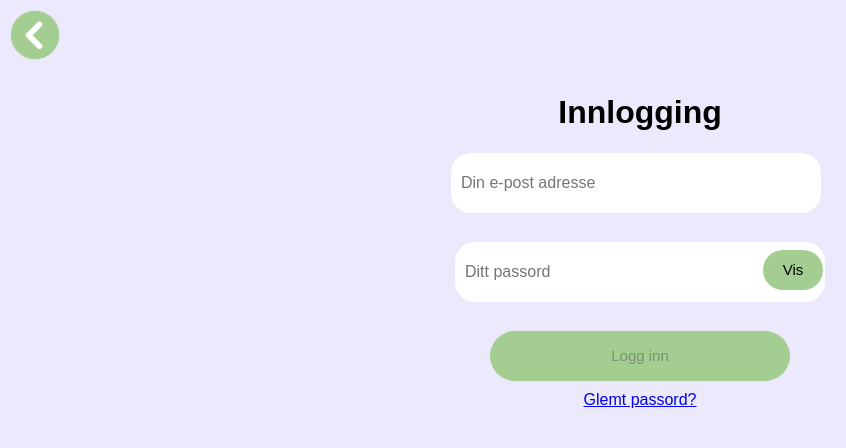
Test case: Login form › displays error message for user not found
Type "validemail@example.com" into the field named "email" at (636, 183), box [451,153,821,213]
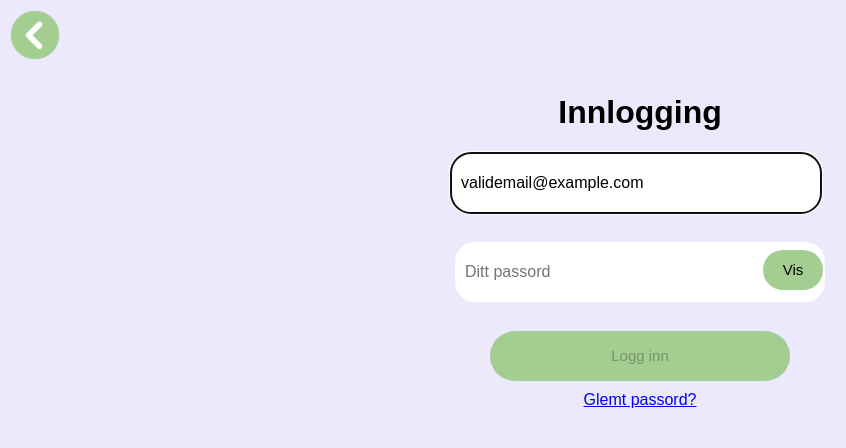
Type "validpassword" into the password field named "password" at (640, 272), box [455,242,825,302]
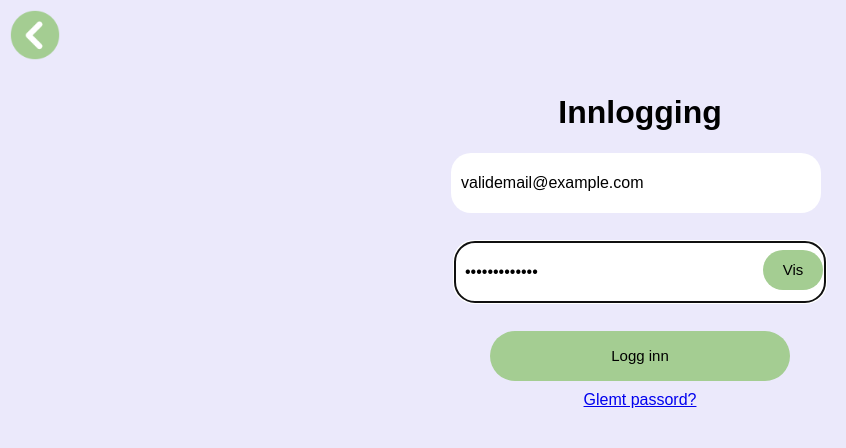
Click the button with class "login" at (640, 356), box [490,331,790,381]
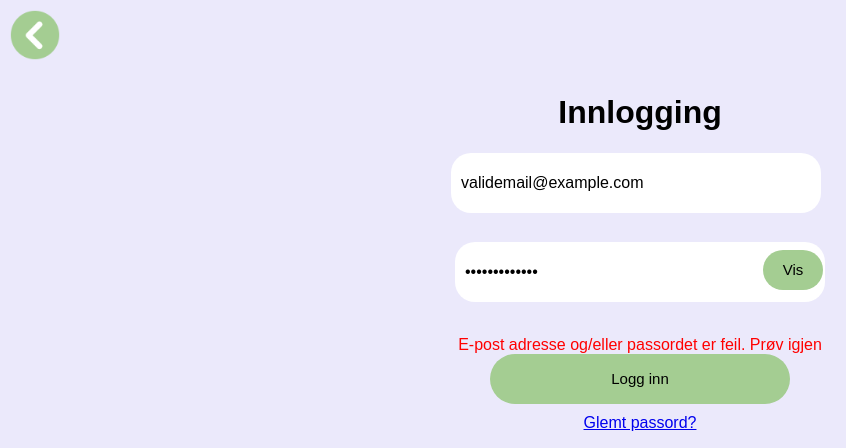
Check: the text "E-post adresse og/eller passordet er feil. Prøv igjen" is shown, box [451,336,829,354]
